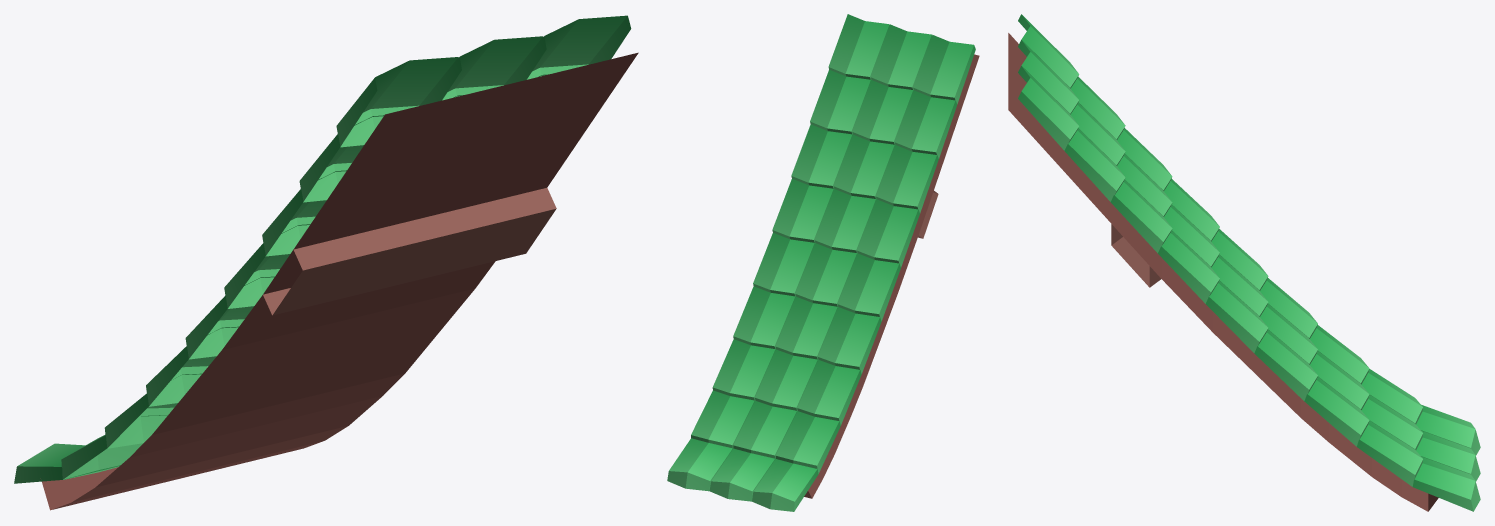
File: RoofPlane_2.fbx
3 views of the same model, side by side, from view 1: azimuth 30°, elevation 25°; view 2: azimuth 150°, elevation 25°; view 3: azimuth 270°, elevation 25° (orthographic). The views are drawn at different scales.
Parts seen in each view (by area): view 1: RoofPlane_2; view 2: RoofPlane_2; view 3: RoofPlane_2.
Boxes of the visible parts, <box> form: RoofPlane_2: <box>14,15,638,510</box>; RoofPlane_2: <box>667,14,979,511</box>; RoofPlane_2: <box>1008,14,1480,511</box>.
Size of the model in its own units: 1.2 by 3.08 by 3.04.
